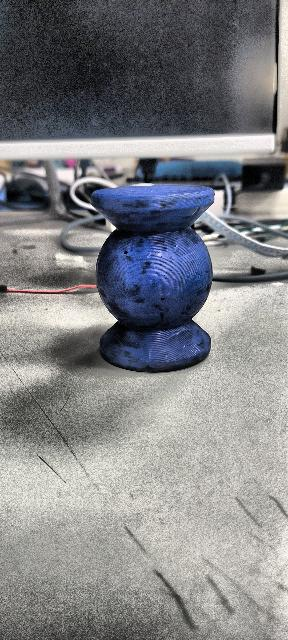blue: (91, 184, 215, 372)
